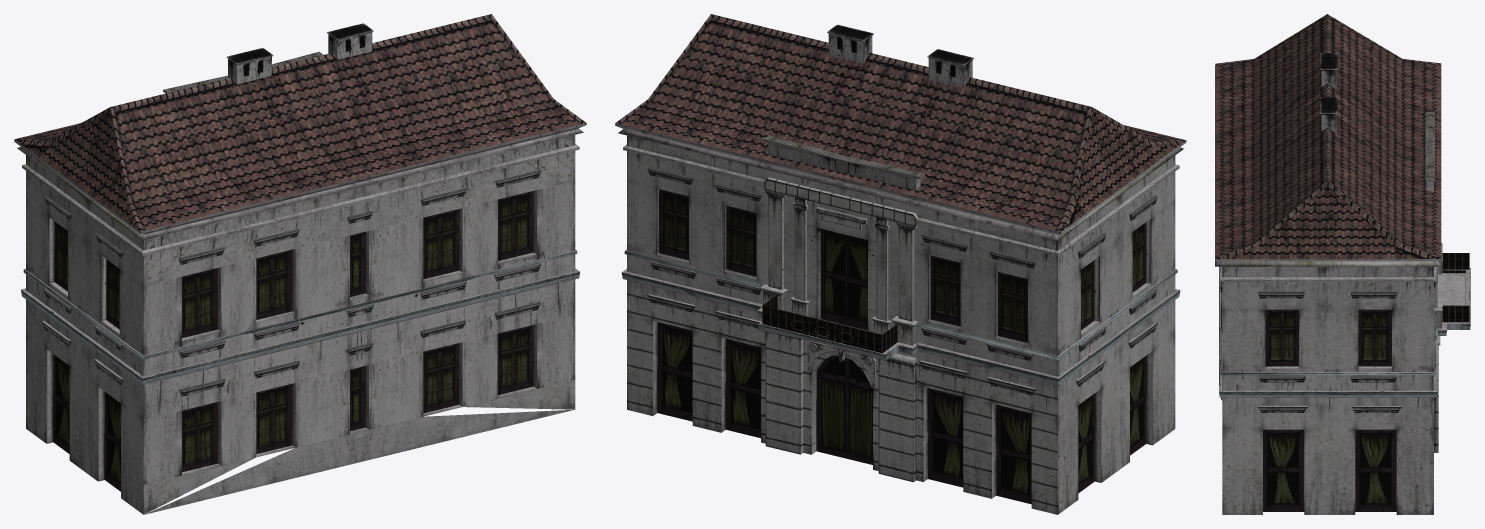
The model's file is house26.obj.
3 renders of one model, left to right at view 1: azimuth 30°, elevation 25°; view 2: azimuth 150°, elevation 25°; view 3: azimuth 270°, elevation 25°, orthographic. The views are drawn at different scales.
Visible parts, largest first — view 1: City_building_016.001; view 2: City_building_016.001; view 3: City_building_016.001.
Part boxes in pixels (left/top/right/bottom): City_building_016.001: left=14, top=14, right=586, bottom=514; City_building_016.001: left=615, top=14, right=1186, bottom=514; City_building_016.001: left=1215, top=14, right=1470, bottom=514.
Bounding box in the file's own units: 2.54 × 2.04 × 1.4.
1 material, 1 textured.
